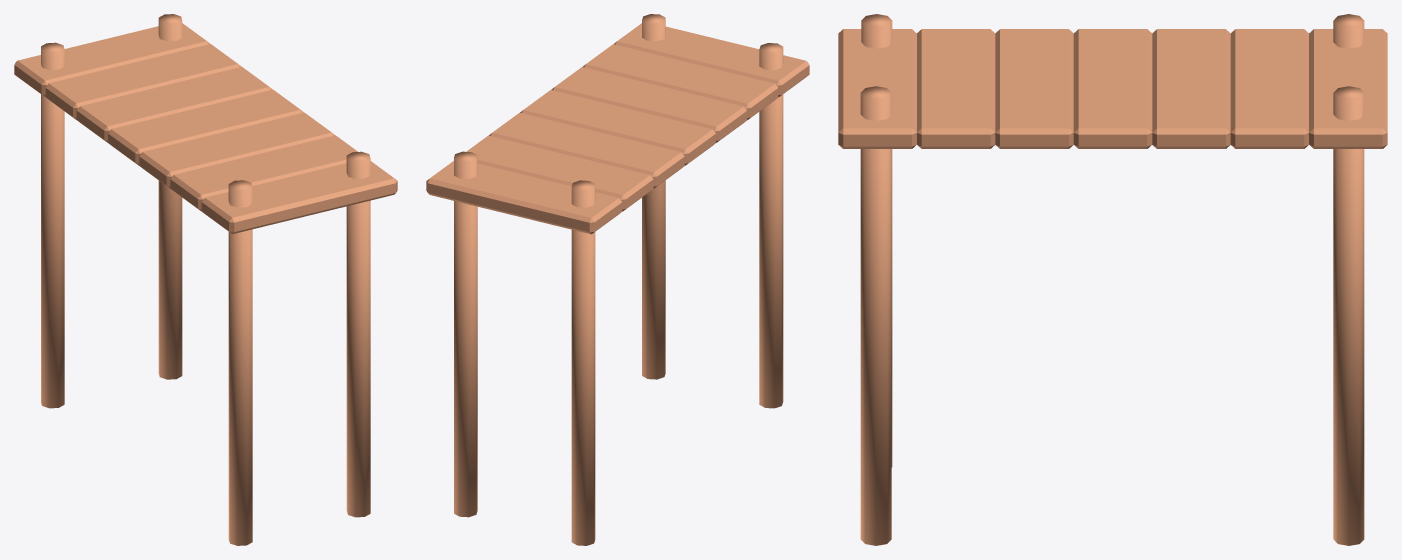
The model's file is Island3.gltf.
The picture shows the model from 3 angles, left to right: view 1: azimuth 30°, elevation 25°; view 2: azimuth 150°, elevation 25°; view 3: azimuth 270°, elevation 25°; orthographic projection. The views are drawn at different scales.
Visible parts, largest first — view 1: Cube.002, Cylinder.008, Cylinder.009, Cylinder.010, Cylinder; view 2: Cube.002, Cylinder.010, Cylinder.008, Cylinder, Cylinder.009; view 3: Cube.002, Cylinder, Cylinder.009, Cylinder.008, Cylinder.010.
Boxes of the visible parts, x1,y1,x2,y2 form: Cube.002: [14, 23, 397, 234]; Cylinder.008: [228, 180, 252, 545]; Cylinder.009: [346, 151, 370, 517]; Cylinder.010: [41, 42, 64, 408]; Cylinder: [158, 14, 182, 379]; Cube.002: [426, 23, 809, 234]; Cylinder.010: [571, 180, 595, 545]; Cylinder.008: [759, 43, 783, 408]; Cylinder: [454, 151, 477, 517]; Cylinder.009: [642, 14, 665, 379]; Cube.002: [838, 29, 1387, 148]; Cylinder: [1333, 86, 1364, 545]; Cylinder.009: [860, 86, 891, 545]; Cylinder.008: [861, 14, 892, 467]; Cylinder.010: [1333, 14, 1364, 48].
Size of the model in its own units: 0.1022 by 0.206 by 0.2295.
